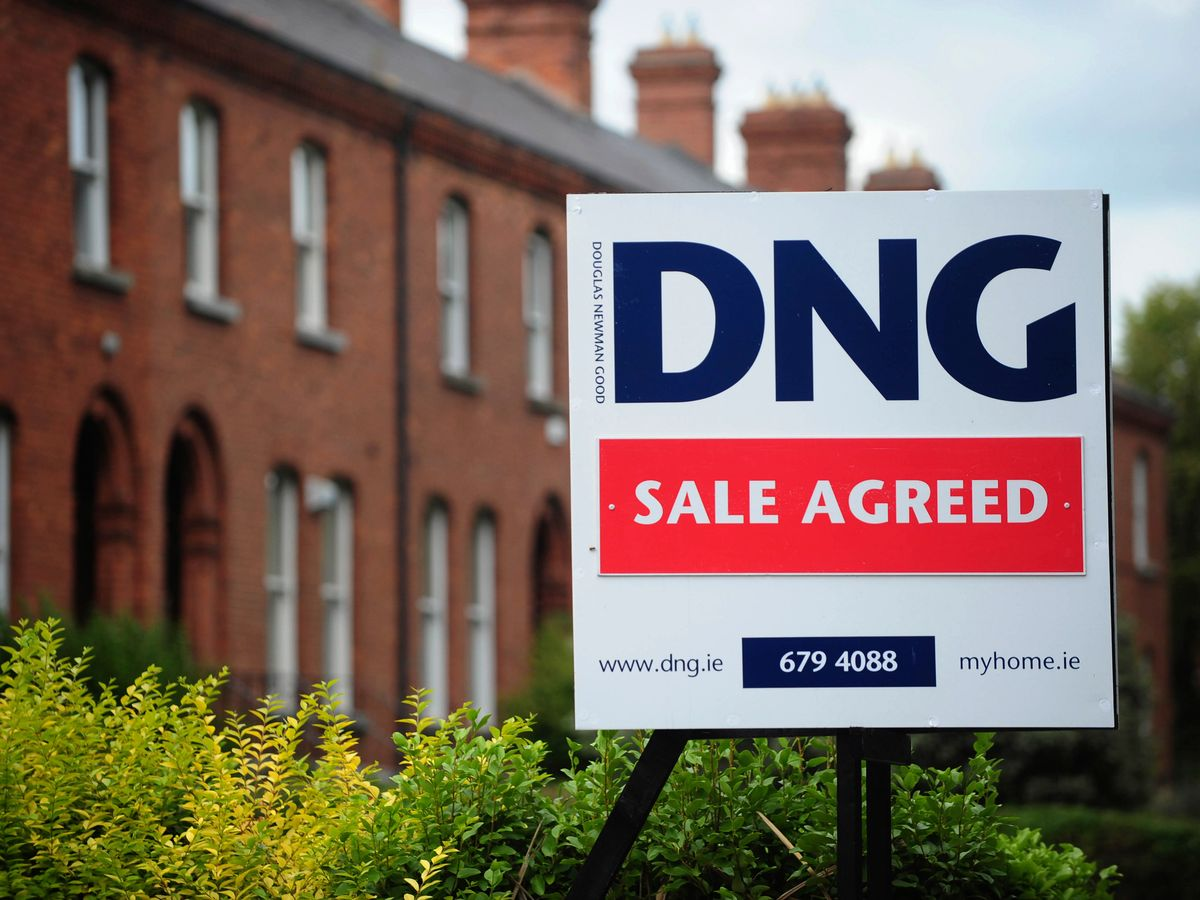property sign: (527, 145, 1140, 759)
